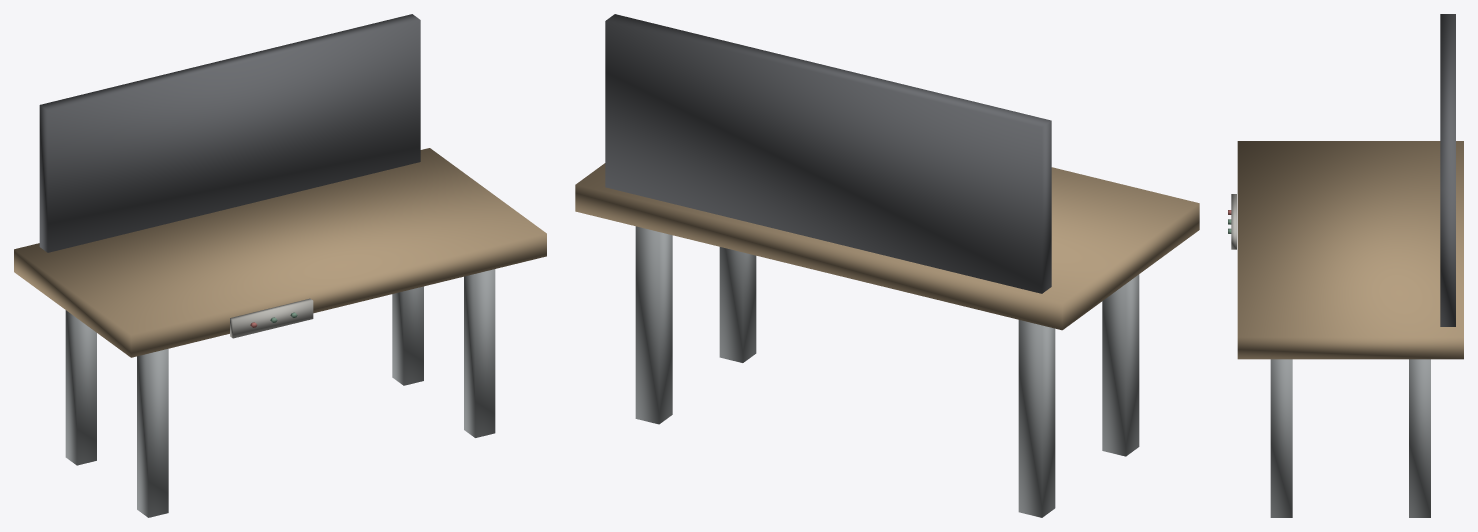
The model's file is basement_workbench__squat.glb.
3 views of the same model, side by side, from view 1: azimuth 30°, elevation 25°; view 2: azimuth 150°, elevation 25°; view 3: azimuth 270°, elevation 25° (orthographic). The views are drawn at different scales.
Parts seen in each view (by area): view 1: world; view 2: world; view 3: world.
Boxes of the visible parts, box(x1,y1,x2,y2) form: world: box(14, 14, 546, 517); world: box(575, 14, 1199, 517); world: box(1228, 14, 1463, 517).
Bounding box in the file's own units: 1.6 × 1.27 × 0.8111.
